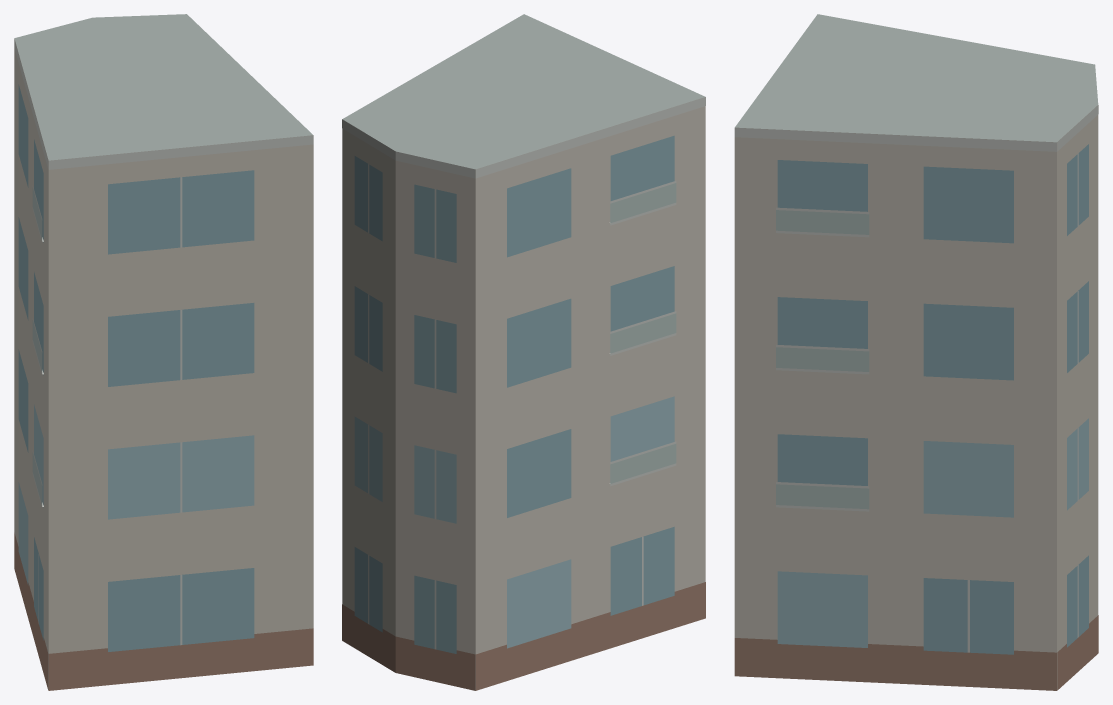
The model's file is survey-upis-33029620.glb.
3 views of the same model, side by side, from view 1: azimuth 30°, elevation 25°; view 2: azimuth 150°, elevation 25°; view 3: azimuth 270°, elevation 25° (orthographic). The views are drawn at different scales.
Visible parts, largest first — view 1: survey-upis-33029620.tmp; view 2: survey-upis-33029620.tmp; view 3: survey-upis-33029620.tmp.
Boxes of the visible parts, x1,y1,x2,y2 form: survey-upis-33029620.tmp: (14, 14, 313, 690); survey-upis-33029620.tmp: (342, 14, 705, 690); survey-upis-33029620.tmp: (734, 14, 1098, 690).
Bounding box in the file's own units: 6.98 × 13.9 × 8.36.
